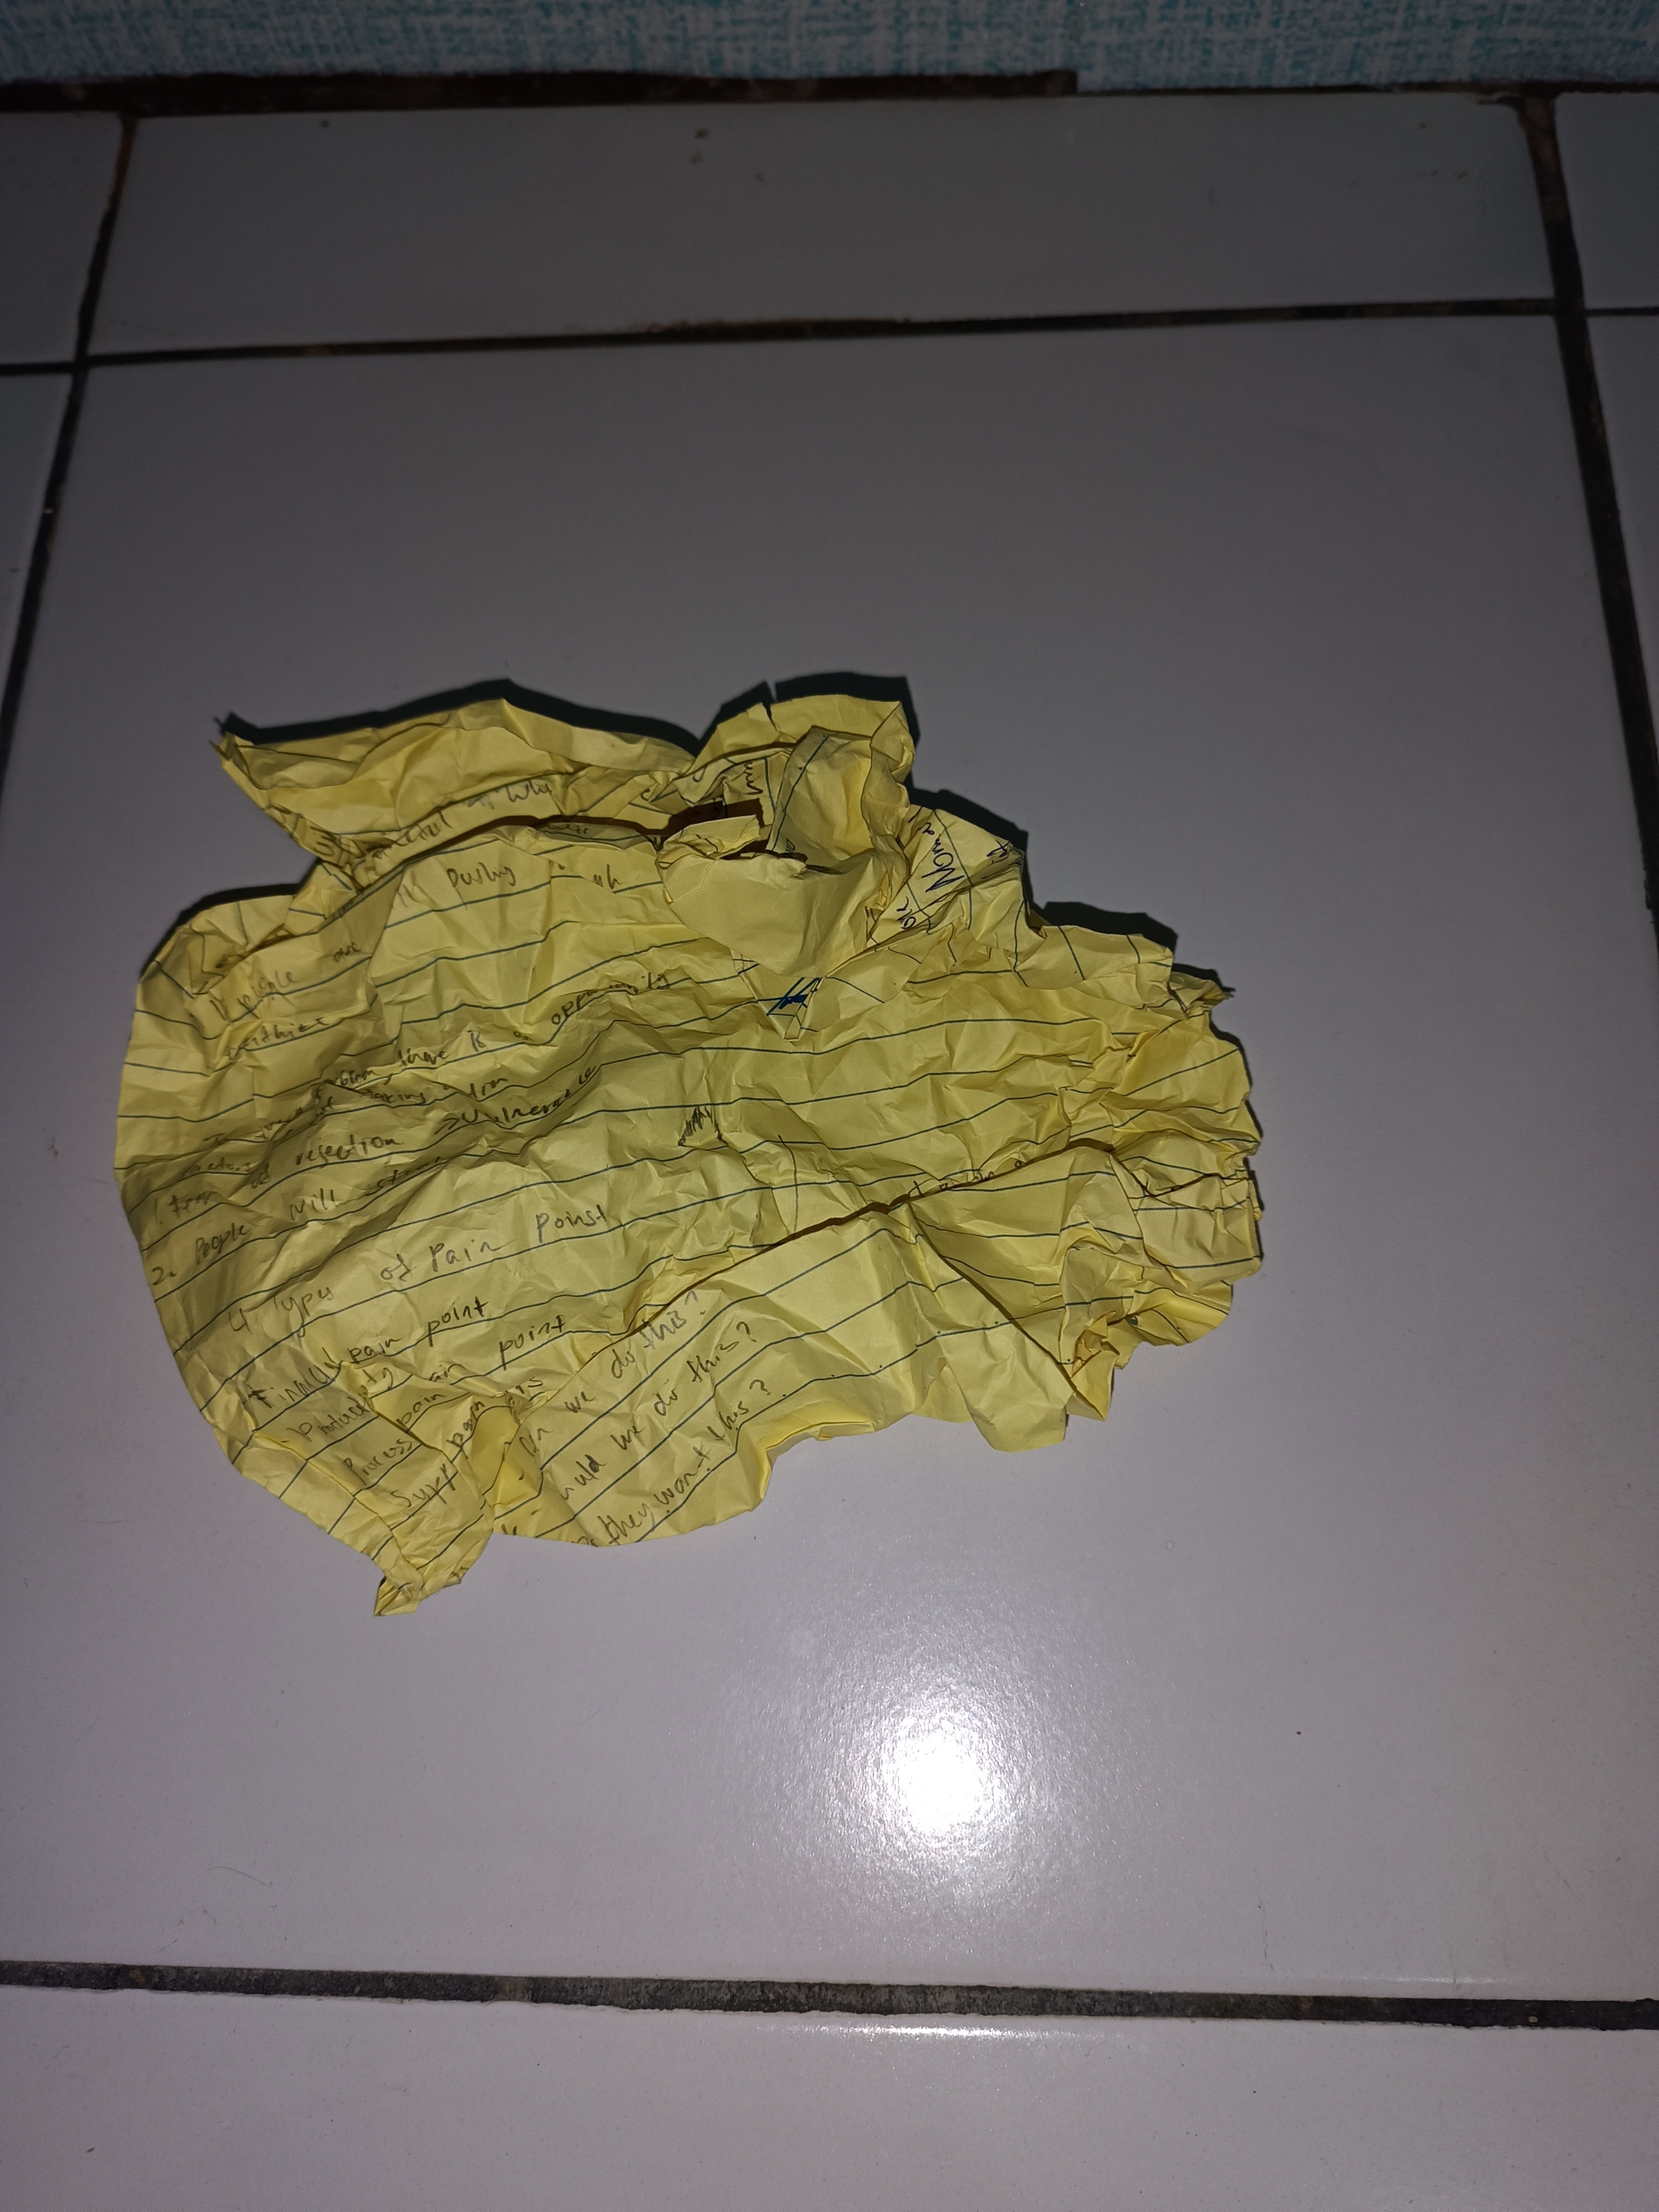Paper: (152, 601, 1319, 1658)
